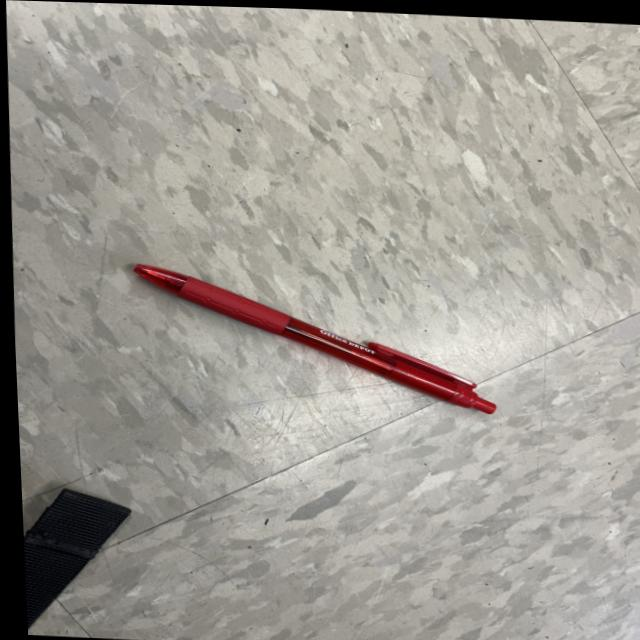pen: (127, 261, 493, 411)
